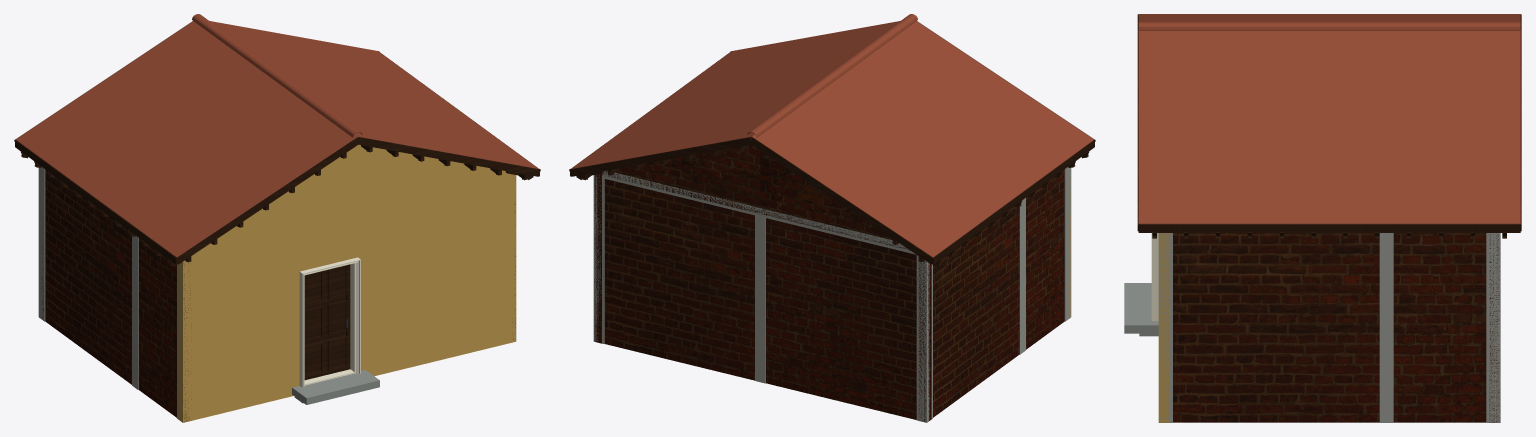
The model's file is building.glb.
3 views of the same model, side by side, from view 1: azimuth 30°, elevation 25°; view 2: azimuth 150°, elevation 25°; view 3: azimuth 270°, elevation 25° (orthographic). The views are drawn at different scales.
Visible parts, largest first — view 1: house:0/edge0/z0/house:0/edge0/z0/wall_0_0, house:0/edge3/z0/house:0/edge3/z0/wall_0_0, roof_assembly/cubierta/roof_gable_closure#0004, roof_assembly/cubierta/roof_gable_closure#0001, site/entrance/0/entrance_step#0002, roof_assembly/cubierta/roof_fascia#0002, roof_assembly/cubierta/roof_fascia#0004, roof_assembly/cubierta/roof_fascia#0001, house:0/edge3/z0/house:0/edge3/z0/column_0_0, house:0/edge3/z0/house:0/edge3/z0/column_2_0, house:0/edge0/z0/opening_u2.80_v0.12/door_panel_back#0001, house:0/edge0/z0/opening_u2.80_v0.12/door_reveal#0001 (+6 smaller); view 2: house:0/edge2/z0/house:0/edge2/z0/wall_0_0, house:0/edge3/z0/house:0/edge3/z0/wall_0_0, roof_assembly/cubierta/roof_gable_closure#0006, roof_assembly/cubierta/roof_gable_closure#0002, house:0/edge2/z0/house:0/edge2/z0/beam_0_0, house:0/edge2/z0/house:0/edge2/z0/column_1_0, house:0/edge2/z0/house:0/edge2/z0/column_2_0, roof_assembly/cubierta/roof_fascia#0003, roof_assembly/cubierta/roof_fascia#0006, house:0/edge2/z0/house:0/edge2/z0/column_0_0, roof_assembly/cubierta/roof_fascia#0001, house:0/edge1/z0/house:0/edge1/z0/wall_0_0 (+3 smaller); view 3: house:0/edge1/z0/house:0/edge1/z0/wall_0_0, roof_assembly/cubierta/roof_fascia#0005, house:0/edge1/z0/house:0/edge1/z0/column_1_0, house:0/edge1/z0/house:0/edge1/z0/column_2_0, house:0/edge1/z0/house:0/edge1/z0/column_0_0, house:0/edge0/z0/house:0/edge0/z0/wall_0_0, site/entrance/0/entrance_step#0002, house:0/edge2/z0/house:0/edge2/z0/wall_0_0, house:0/edge0/z0/opening_u2.80_v0.12/door_moulding#0028, roof_assembly/cubierta/roof_fascia#0004, roof_assembly/cubierta/roof_fascia#0006.
Boxes of the visible parts, box(x1,y1,x2,y2) form: house:0/edge0/z0/house:0/edge0/z0/wall_0_0: box(178, 170, 516, 422); house:0/edge3/z0/house:0/edge3/z0/wall_0_0: box(45, 169, 191, 421); roof_assembly/cubierta/roof_gable_closure#0004: box(349, 144, 510, 213); roof_assembly/cubierta/roof_gable_closure#0001: box(200, 151, 349, 250); site/entrance/0/entrance_step#0002: box(292, 370, 379, 404); roof_assembly/cubierta/roof_fascia#0002: box(175, 138, 359, 264); roof_assembly/cubierta/roof_fascia#0004: box(357, 137, 540, 176); roof_assembly/cubierta/roof_fascia#0001: box(15, 140, 177, 264); house:0/edge3/z0/house:0/edge3/z0/column_0_0: box(38, 167, 45, 321); house:0/edge3/z0/house:0/edge3/z0/column_2_0: box(132, 236, 138, 389); house:0/edge0/z0/opening_u2.80_v0.12/door_panel_back#0001: box(304, 270, 345, 371); house:0/edge0/z0/opening_u2.80_v0.12/door_reveal#0001: box(299, 262, 353, 385); house:0/edge2/z0/house:0/edge2/z0/wall_0_0: box(604, 179, 931, 420); house:0/edge3/z0/house:0/edge3/z0/wall_0_0: box(918, 169, 1064, 422); roof_assembly/cubierta/roof_gable_closure#0006: box(602, 144, 760, 213); roof_assembly/cubierta/roof_gable_closure#0002: box(760, 151, 909, 250); house:0/edge2/z0/house:0/edge2/z0/beam_0_0: box(594, 170, 915, 254); house:0/edge2/z0/house:0/edge2/z0/column_1_0: box(916, 255, 927, 422); house:0/edge2/z0/house:0/edge2/z0/column_2_0: box(755, 215, 765, 383); roof_assembly/cubierta/roof_fascia#0003: box(750, 138, 934, 264); roof_assembly/cubierta/roof_fascia#0006: box(569, 137, 751, 176); house:0/edge2/z0/house:0/edge2/z0/column_0_0: box(593, 176, 604, 343); roof_assembly/cubierta/roof_fascia#0001: box(932, 140, 1094, 264); house:0/edge1/z0/house:0/edge1/z0/wall_0_0: box(594, 173, 601, 343); house:0/edge1/z0/house:0/edge1/z0/wall_0_0: box(1173, 233, 1486, 422); roof_assembly/cubierta/roof_fascia#0005: box(1138, 224, 1520, 232); house:0/edge1/z0/house:0/edge1/z0/column_1_0: box(1486, 233, 1500, 422); house:0/edge1/z0/house:0/edge1/z0/column_2_0: box(1379, 233, 1393, 422); house:0/edge1/z0/house:0/edge1/z0/column_0_0: box(1158, 233, 1172, 422); house:0/edge0/z0/house:0/edge0/z0/wall_0_0: box(1158, 233, 1169, 422); site/entrance/0/entrance_step#0002: box(1124, 283, 1158, 333); house:0/edge2/z0/house:0/edge2/z0/wall_0_0: box(1489, 233, 1499, 422); house:0/edge0/z0/opening_u2.80_v0.12/door_moulding#0028: box(1151, 233, 1158, 320); roof_assembly/cubierta/roof_fascia#0004: box(1137, 29, 1139, 231); roof_assembly/cubierta/roof_fascia#0006: box(1519, 29, 1521, 231).
Size of the model in its own units: 8.76 by 5.92 by 6.97.
Materials: 8 (2 with a texture image).
